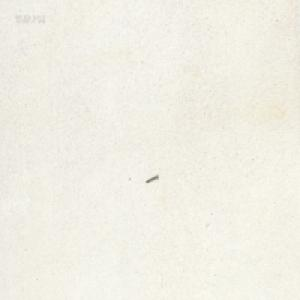Bolt: (145, 172, 158, 183)
